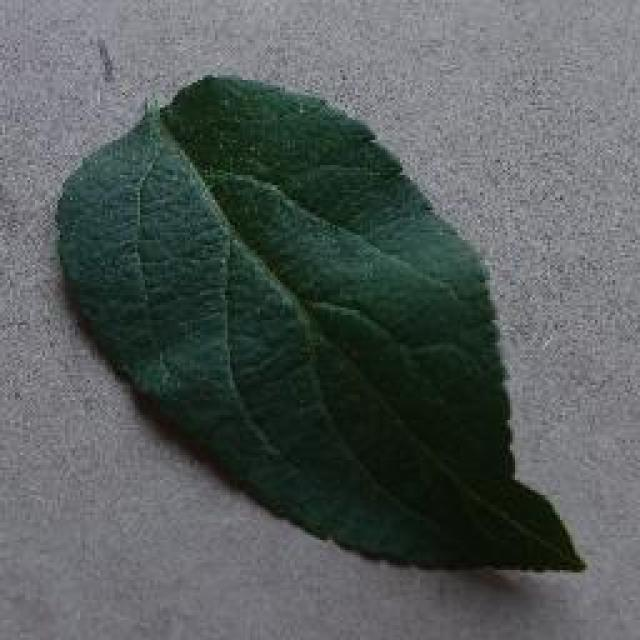apple healthy: (50, 70, 585, 575)
